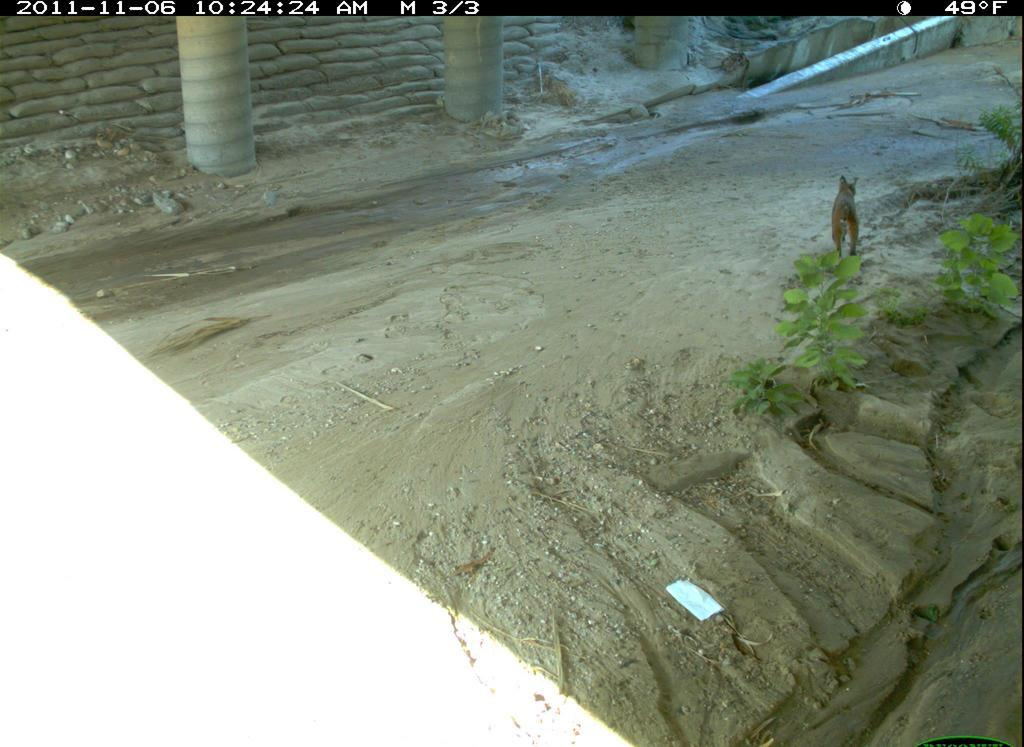bobcat: (827, 164, 882, 268)
